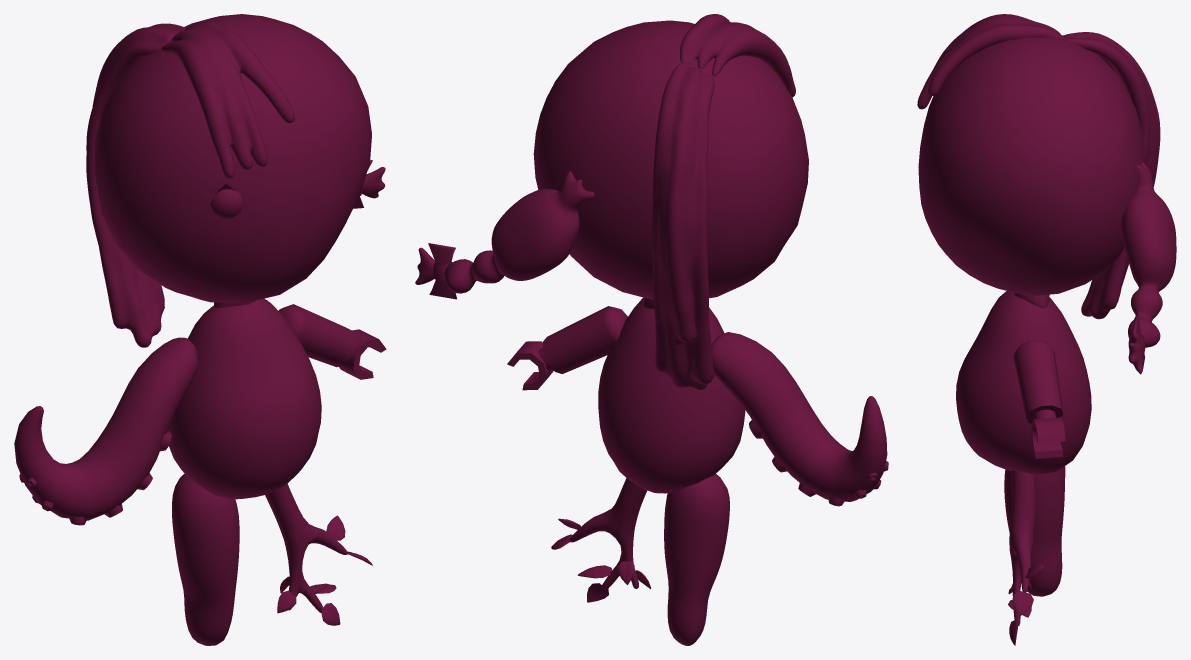
The model's file is MuñecaNinaFBX (1).fbx.
3 views of the same model, side by side, from view 1: azimuth 30°, elevation 25°; view 2: azimuth 150°, elevation 25°; view 3: azimuth 270°, elevation 25° (orthographic). The views are drawn at different scales.
Visible parts, largest first — view 1: Cabeza, Cuerpo1, Tentaculo, Pata, Rama, Brazo; view 2: Cabeza, Cuerpo1, Tentaculo, Pata, Brazo, Rama; view 3: Cabeza, Cuerpo1, Brazo, Pata, Rama.
Boxes of the visible parts, x1,y1,x2,y2 form: Cabeza: (86, 14, 385, 347); Cuerpo1: (168, 299, 321, 499); Tentaculo: (14, 337, 198, 525); Pata: (172, 473, 239, 645); Rama: (265, 484, 372, 625); Brazo: (278, 304, 386, 379); Cabeza: (415, 14, 808, 390); Cuerpo1: (598, 297, 745, 493); Tentaculo: (711, 332, 888, 506); Pata: (664, 474, 729, 645); Brazo: (507, 306, 627, 390); Rama: (551, 478, 650, 602); Cabeza: (917, 14, 1176, 374); Cuerpo1: (956, 291, 1091, 474); Brazo: (1013, 340, 1065, 458); Pata: (1004, 466, 1065, 596); Rama: (1008, 470, 1044, 645).
Size of the model in its own units: 0.4096 by 0.5793 by 0.2383.
